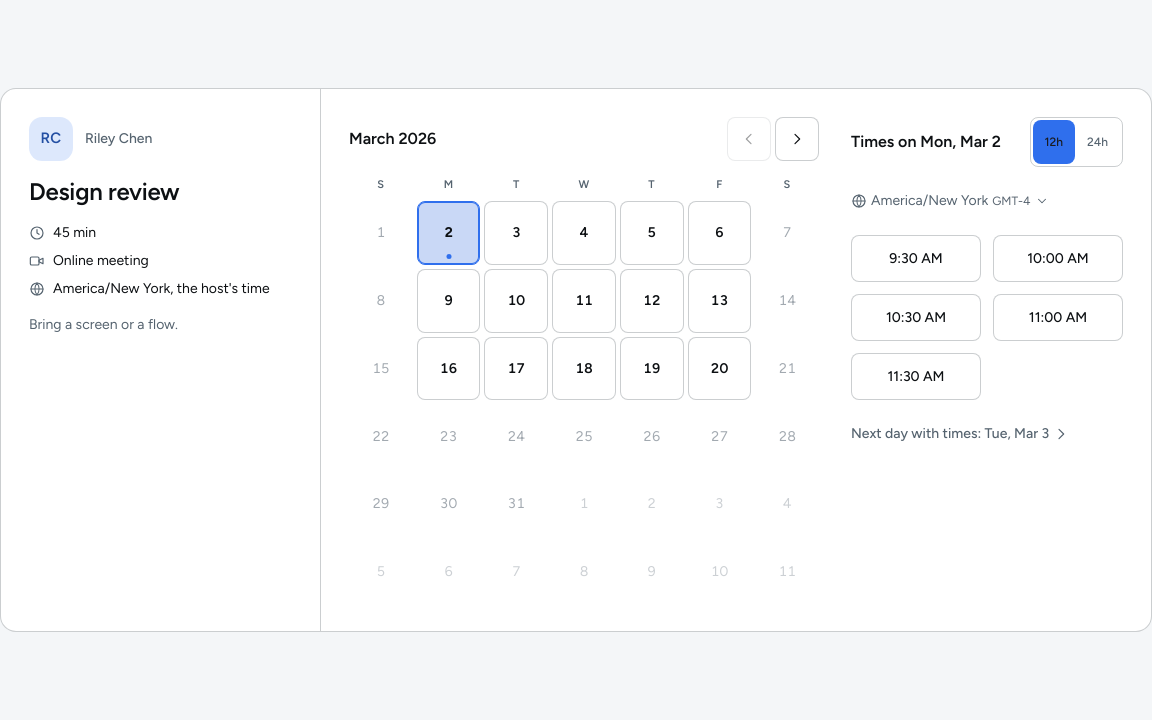
"next day with times" names only a day the page can vouch for › never skips a month that could not be read
Click the button named "Next month". click: (797, 139)
box: [775,117,819,161]
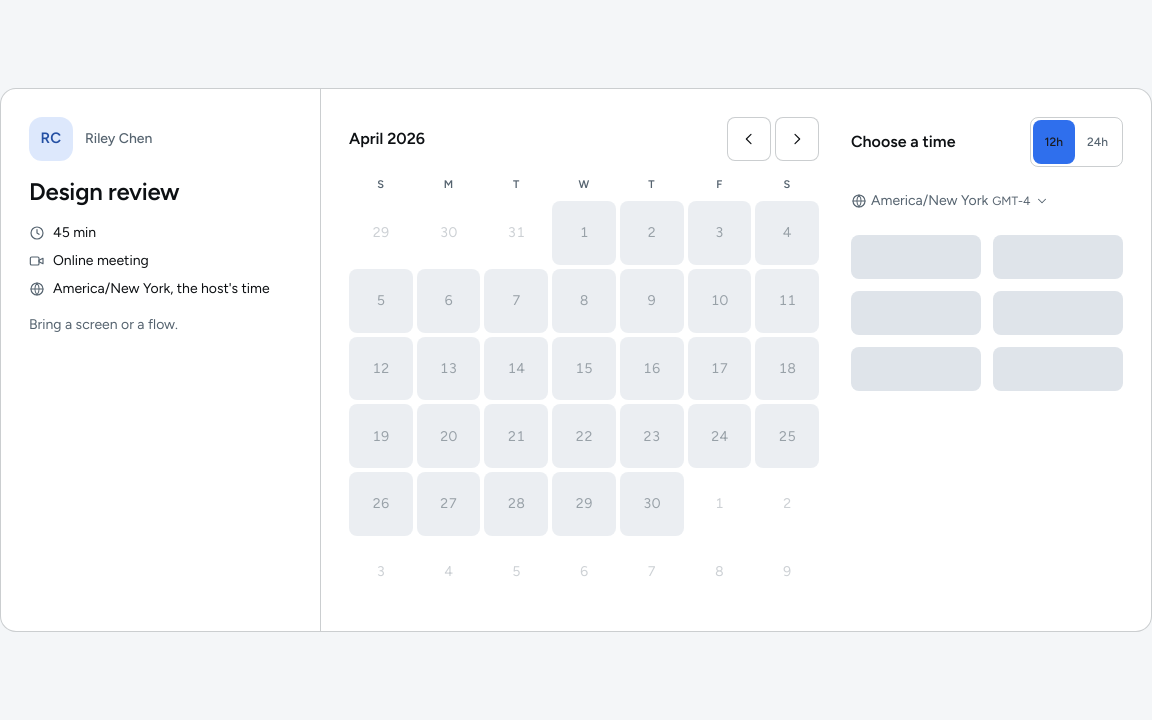
Click the button named "Next month". click: (797, 139)
box: [775,117,819,161]
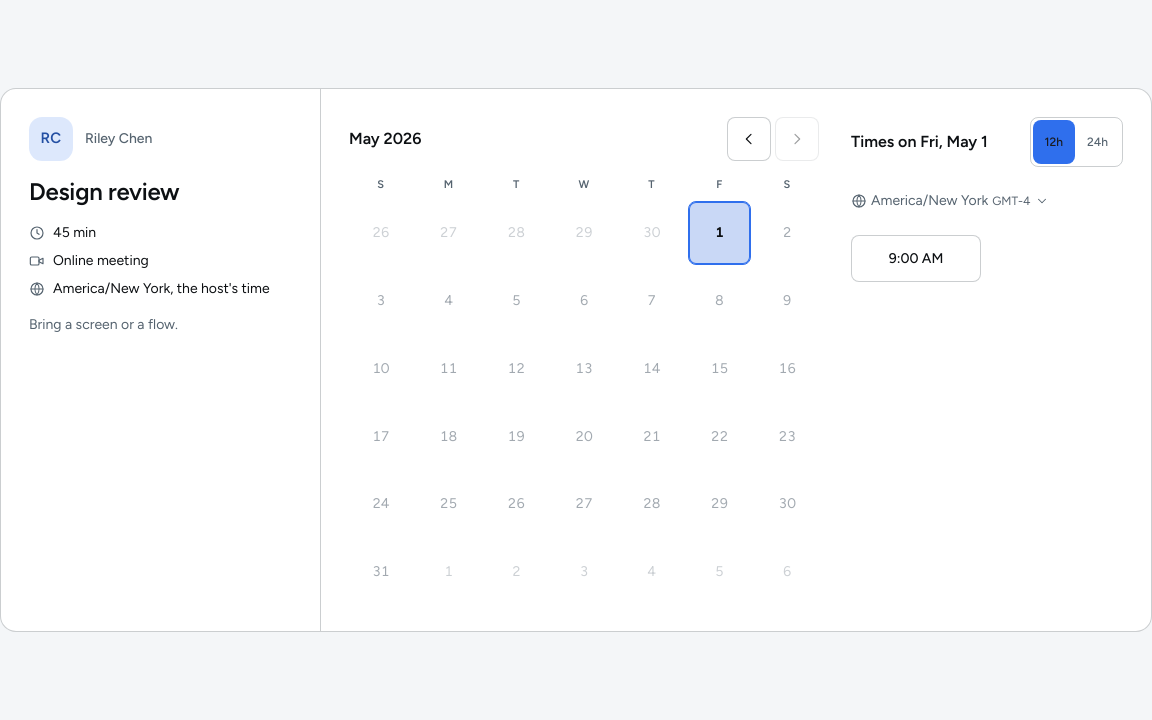
Result: the heading "May 2026" is shown at [349,127,421,151]
Click the button named "Previous month". click: (749, 139)
box: [727,117,771,161]
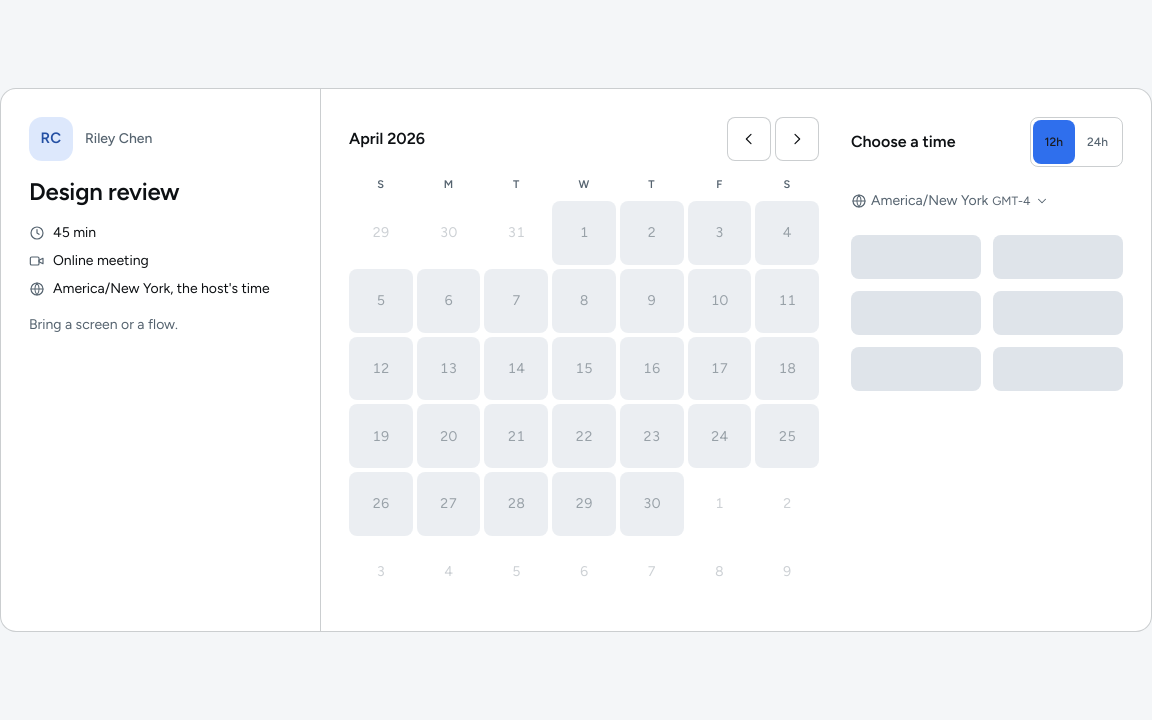
Click the button named "Previous month". click: (749, 139)
box: [727,117,771,161]
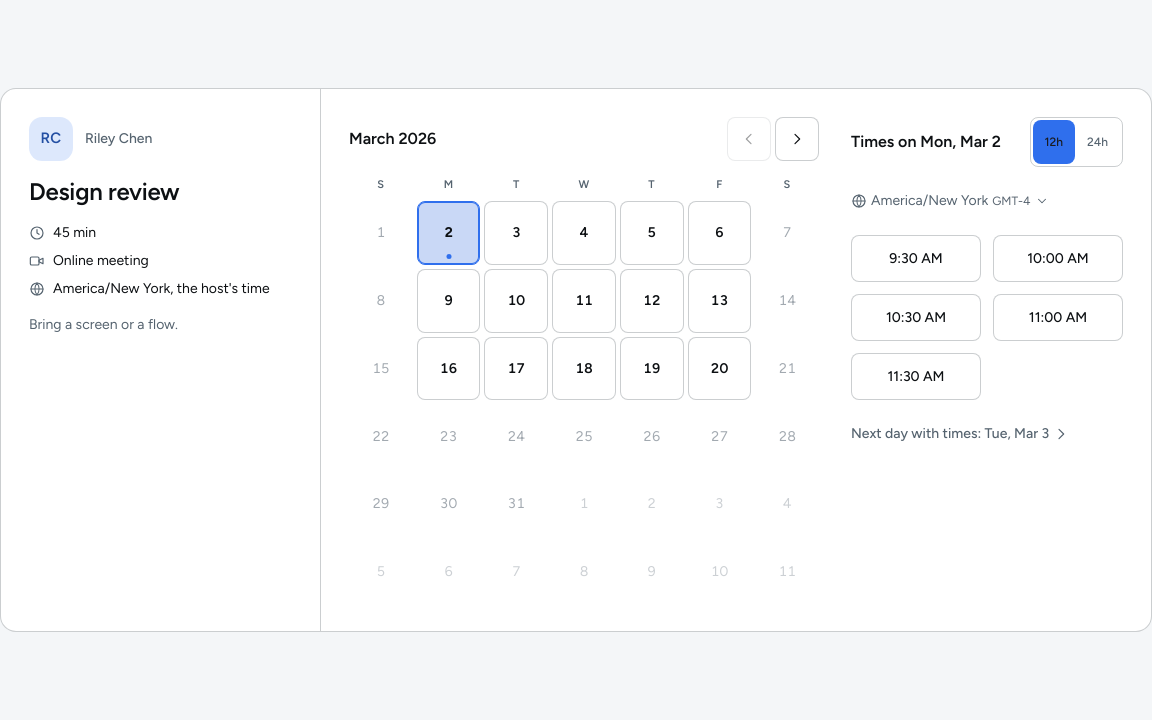
Click the button "20". click: (719, 368)
box: [688,336,751,400]
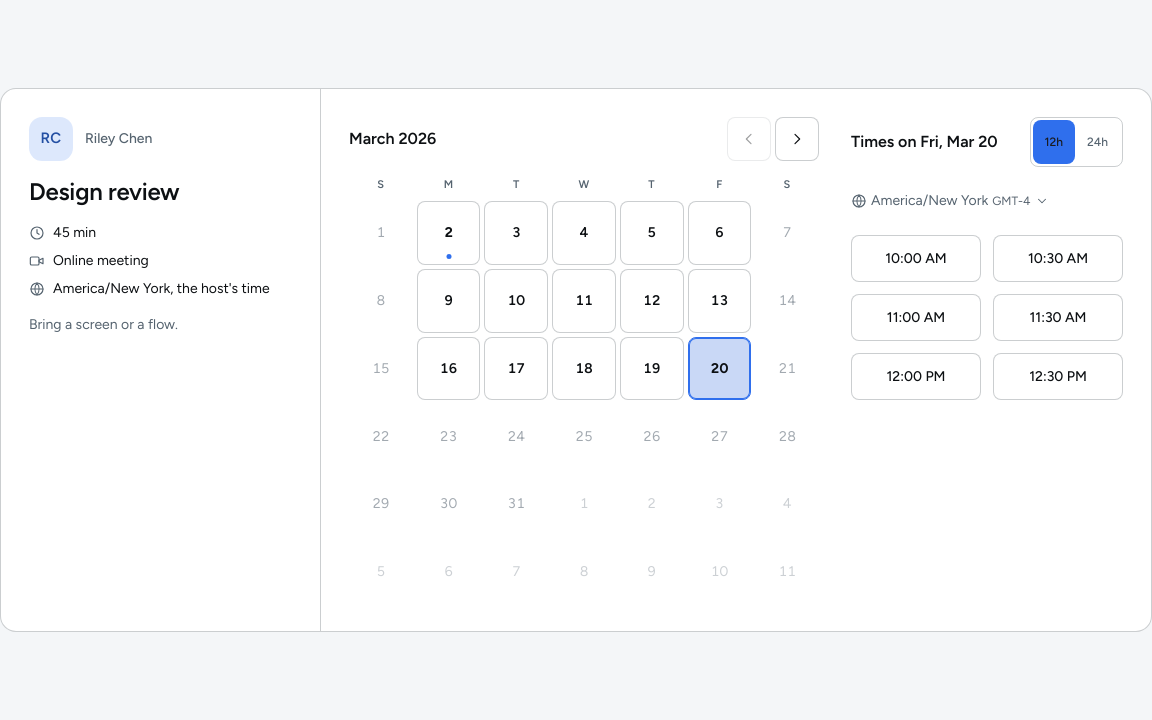
Result: the button with class "bp-next-day" is gone
